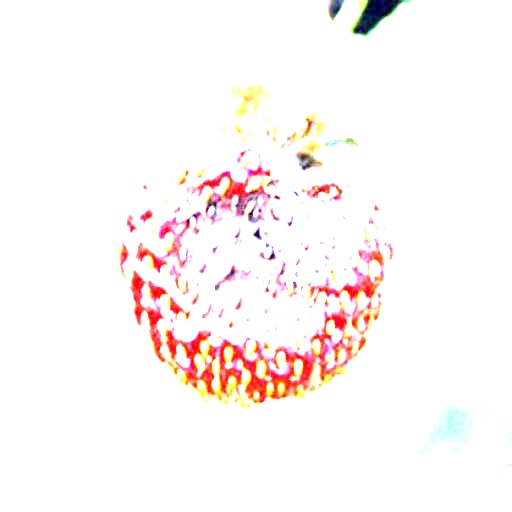Anthracnose Fruit Rot: (156, 149, 373, 342)
